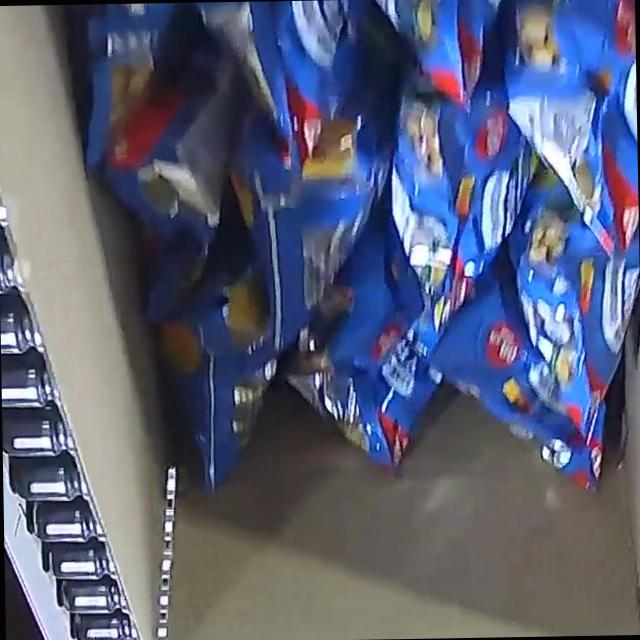paprika: (74, 0, 640, 507)
